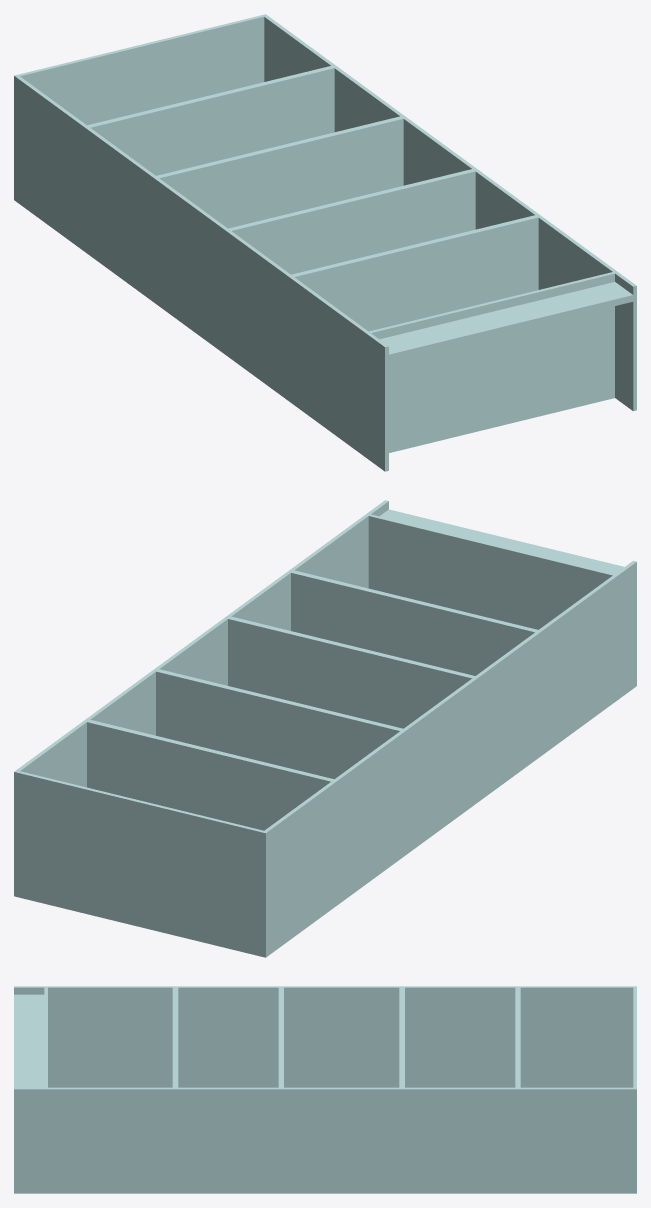
The model's file is Shelf_ML.dae.
The picture shows the model from 3 angles, top to bottom: view 1: azimuth 30°, elevation 25°; view 2: azimuth 150°, elevation 25°; view 3: azimuth 270°, elevation 25°; orthographic projection. The views are drawn at different scales.
Visible parts, largest first — view 1: node0; view 2: node0; view 3: node0.
Part boxes in pixels (box(x1,y1,x2,y2)): node0: box(14, 14, 636, 471); node0: box(14, 500, 636, 957); node0: box(14, 986, 636, 1193).
Size of the model in its own units: 0.796 by 2.03 by 0.376.
